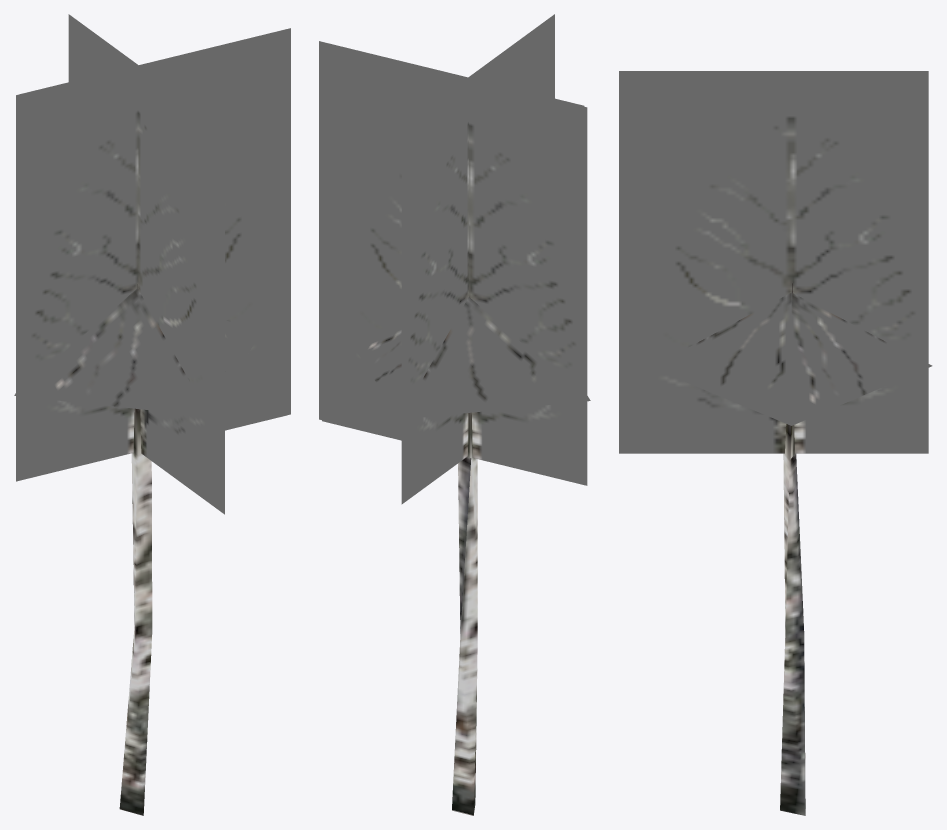
File: birch3dead.glb
3 views of the same model, side by side, from view 1: azimuth 30°, elevation 25°; view 2: azimuth 150°, elevation 25°; view 3: azimuth 270°, elevation 25° (orthographic). The views are drawn at different scales.
Parts seen in each view (by area): view 1: birch 3; view 2: birch 3; view 3: birch 3.
Part boxes in pixels (x1=…): birch 3: x1=14, y1=14, x2=290, y2=815; birch 3: x1=319, y1=14, x2=590, y2=815; birch 3: x1=619, y1=71, x2=932, y2=815.
Size of the model in its own units: 5.36 by 13.81 by 5.31.
1 material, 1 textured.
